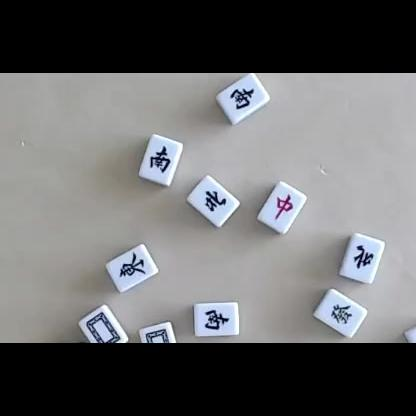1z: (118, 252, 146, 277)
2z: (150, 146, 172, 173), (203, 309, 229, 331), (231, 87, 254, 109)
4z: (205, 190, 227, 212), (354, 245, 374, 269)
5z: (85, 312, 120, 343), (145, 328, 173, 343)
6z: (331, 304, 352, 325)
7z: (274, 194, 294, 220)
